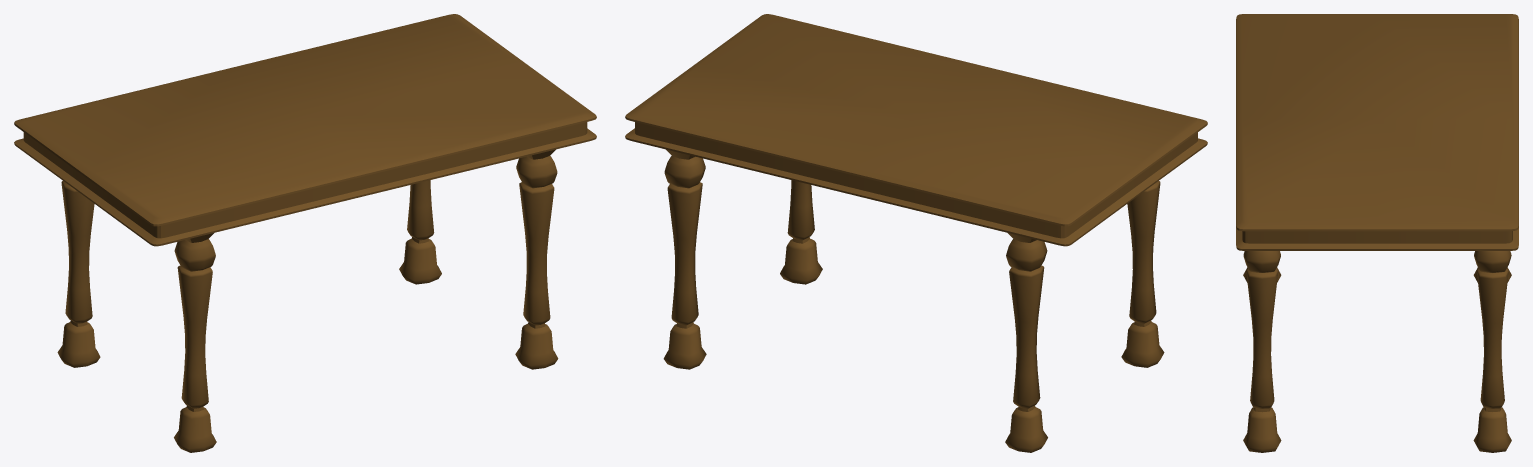
Rendered from nursery desk.FBX.
The picture shows the model from 3 angles, left to right: view 1: azimuth 30°, elevation 25°; view 2: azimuth 150°, elevation 25°; view 3: azimuth 270°, elevation 25°; orthographic projection.
Visible parts, largest first — view 1: Nursery Table; view 2: Nursery Table; view 3: Nursery Table.
Part boxes in pixels (x1=…): Nursery Table: x1=14, y1=14, x2=596, y2=452; Nursery Table: x1=625, y1=14, x2=1207, y2=452; Nursery Table: x1=1236, y1=14, x2=1518, y2=452.
Size of the model in its own units: 63.85 by 35.42 by 33.59.
